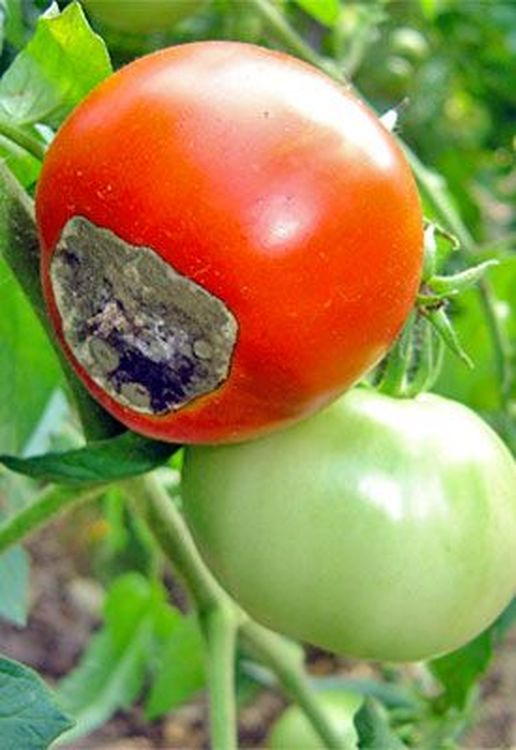blossom_rotw: (27, 177, 307, 429)
